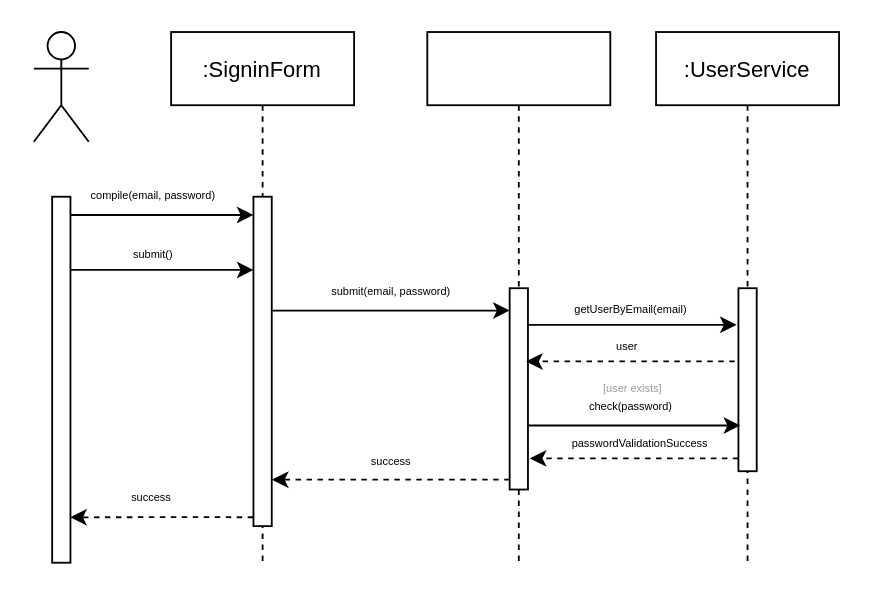
Image size: 871x595. Some labels were removed from this diagram. Here are the shapes that lost their labels. From the top down, the centre of each, then its label:
At point (60, 86): "Guest".
At point (517, 296): ":SigninController".
